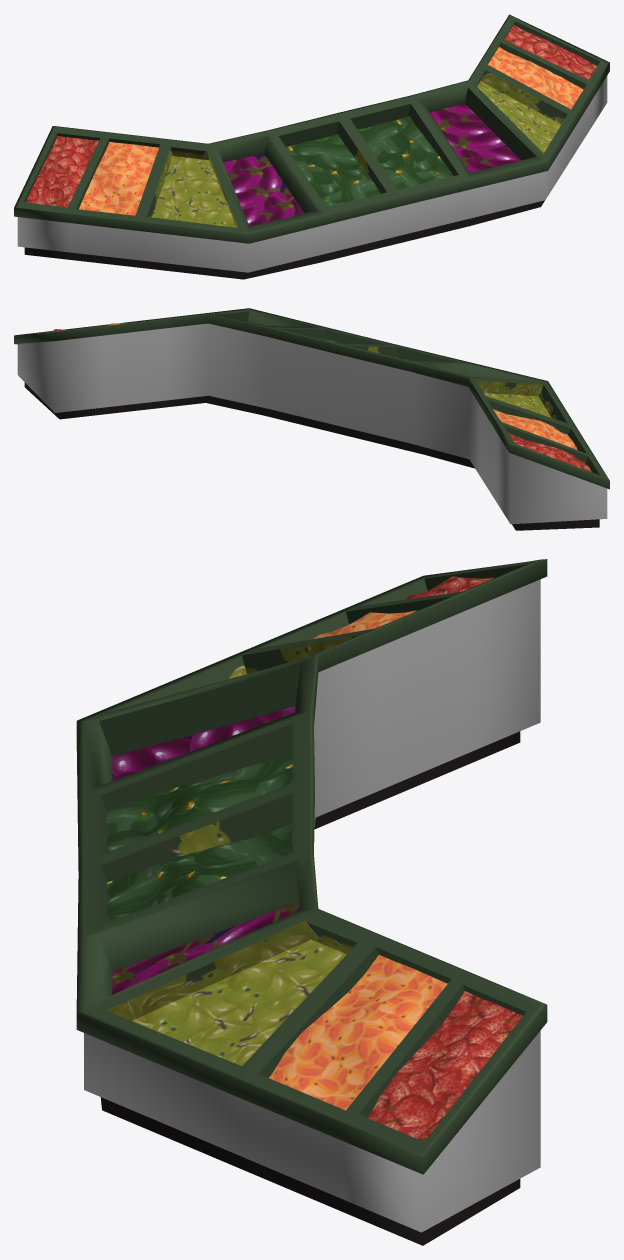
The model's file is étalage grand.fbx.
3 renders of one model, top to bottom at view 1: azimuth 30°, elevation 25°; view 2: azimuth 150°, elevation 25°; view 3: azimuth 270°, elevation 25°, orthographic. The views are drawn at different scales.
Visible parts, largest first — view 1: pPlane16; view 2: pPlane16; view 3: pPlane16.
Part boxes in pixels (x1,y1,x2,y2): pPlane16: (14,14,609,279); pPlane16: (14,308,609,530); pPlane16: (76,559,547,1245).
Bounding box in the file's own units: 916 × 135 × 313.
